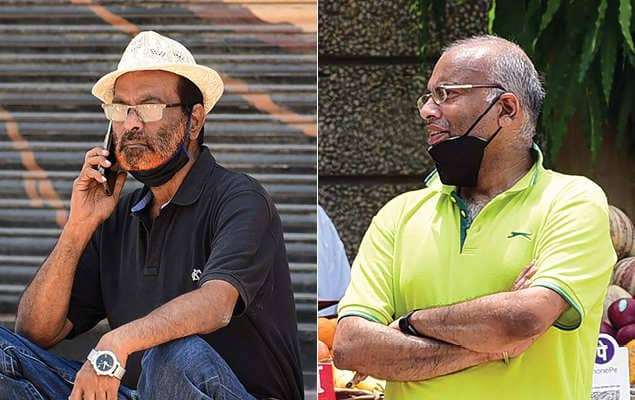with_incorrect_mask: (114, 76, 191, 184), (426, 66, 491, 186)
